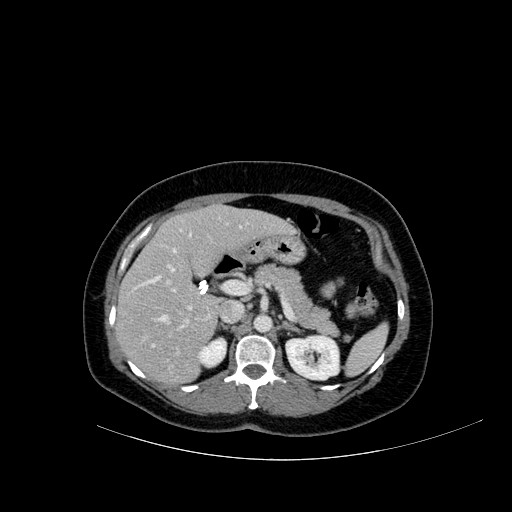clipe: (197, 278, 208, 295)
